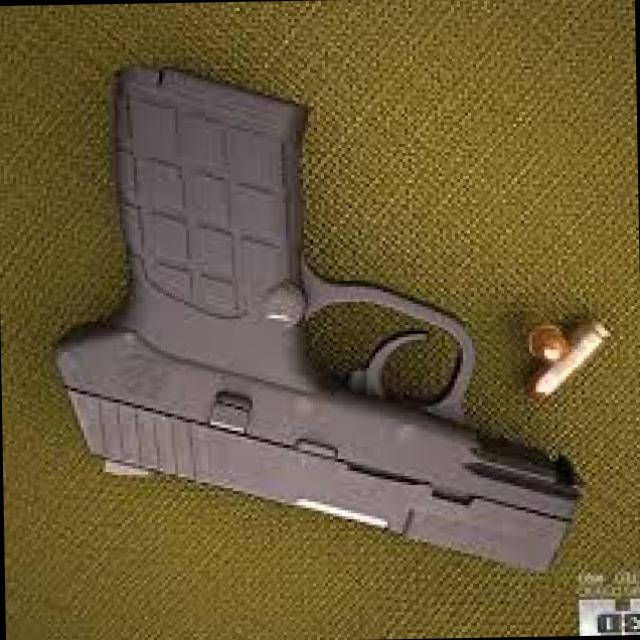Gun: (42, 35, 590, 605)
